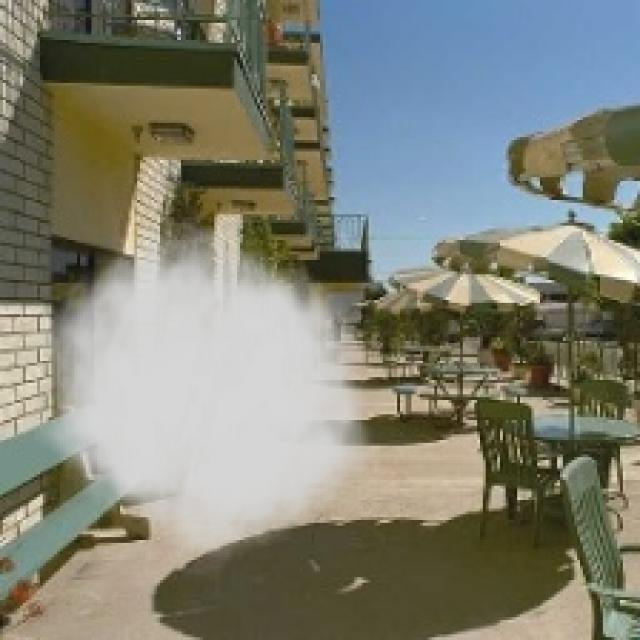Smoke: (34, 212, 386, 568)
